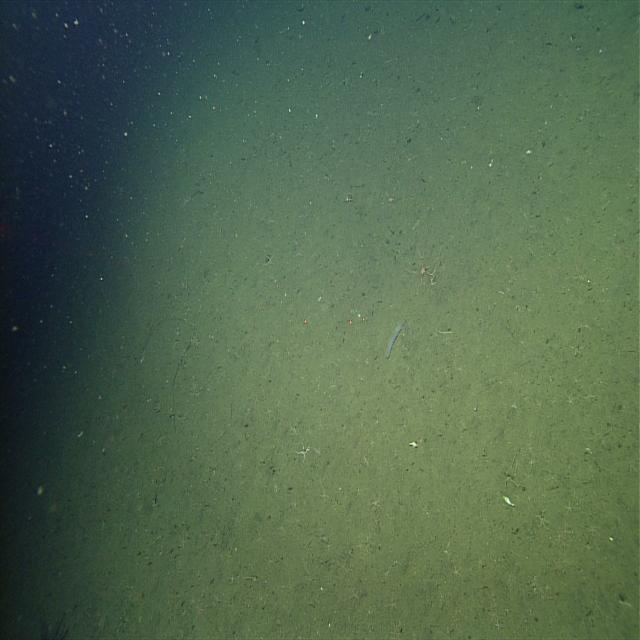Brittle Star: (403, 241, 445, 295), (367, 486, 385, 517)
Not Brittle Star: (383, 318, 406, 361)
